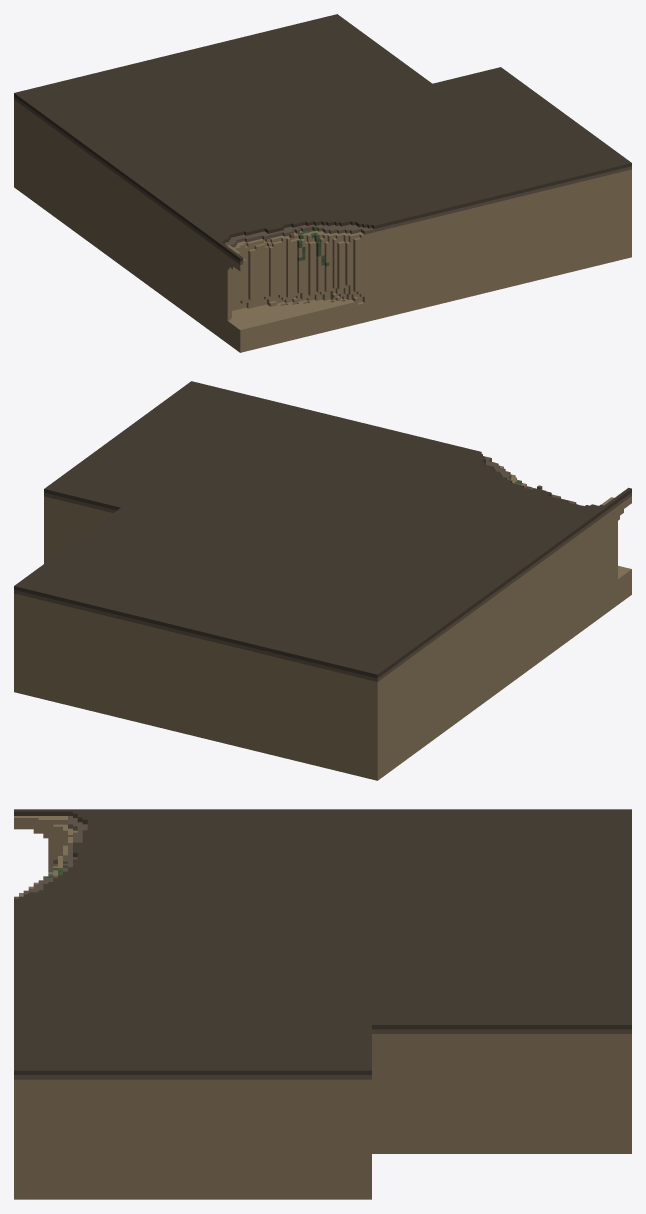
The model's file is Corridor2-4.obj.
3 renders of one model, top to bottom at view 1: azimuth 30°, elevation 25°; view 2: azimuth 150°, elevation 25°; view 3: azimuth 270°, elevation 25°, orthographic. The views are drawn at different scales.
Bounding box in the file's own units: 12.6 × 2.9 × 12.6.
1 material, 1 textured.
